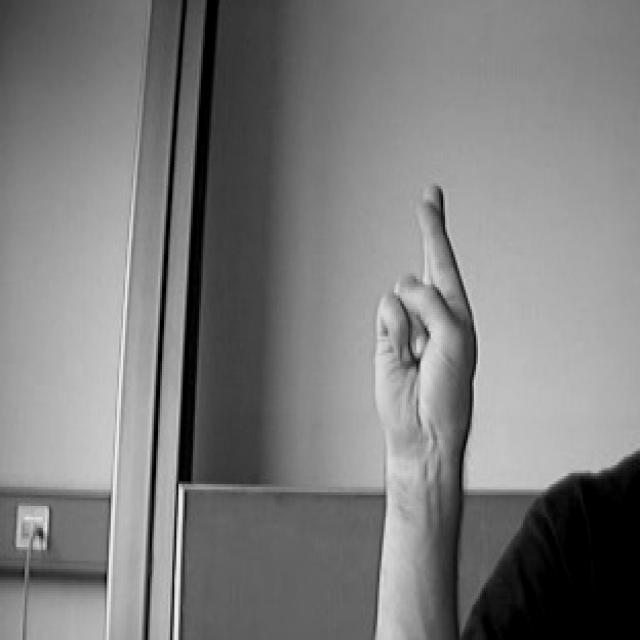R: (362, 171, 494, 467)
